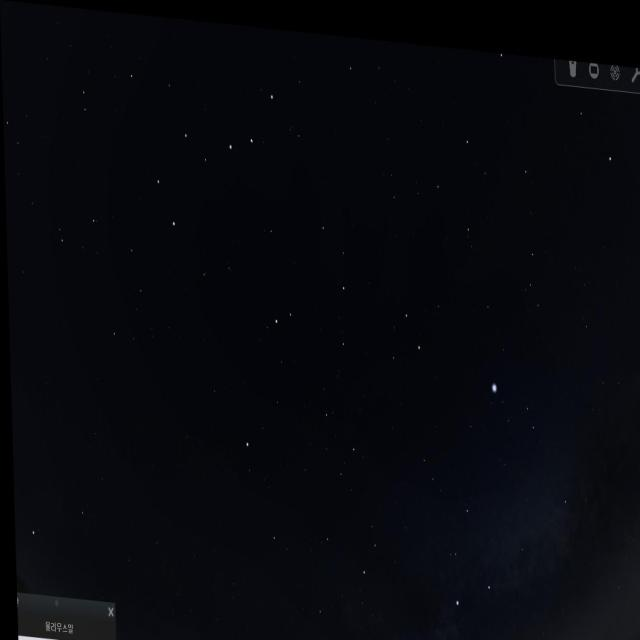cygnus: (438, 464, 581, 640)
lyra: (490, 376, 537, 433)
ursa_major: (148, 74, 287, 240)
